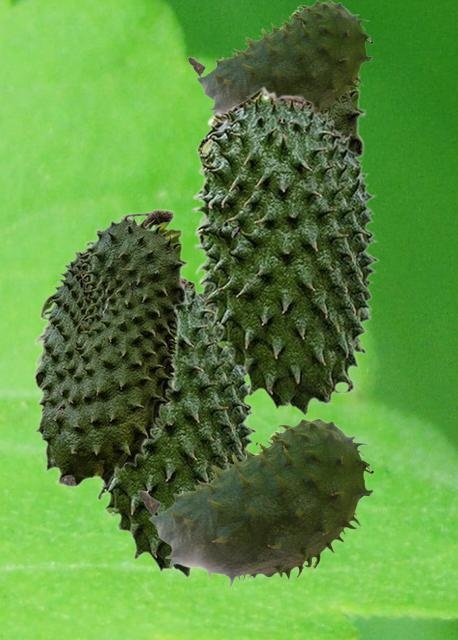guyabano: (191, 85, 379, 415), (95, 275, 257, 577), (32, 208, 187, 487), (137, 418, 373, 588), (196, 78, 365, 292), (187, 0, 372, 116)
